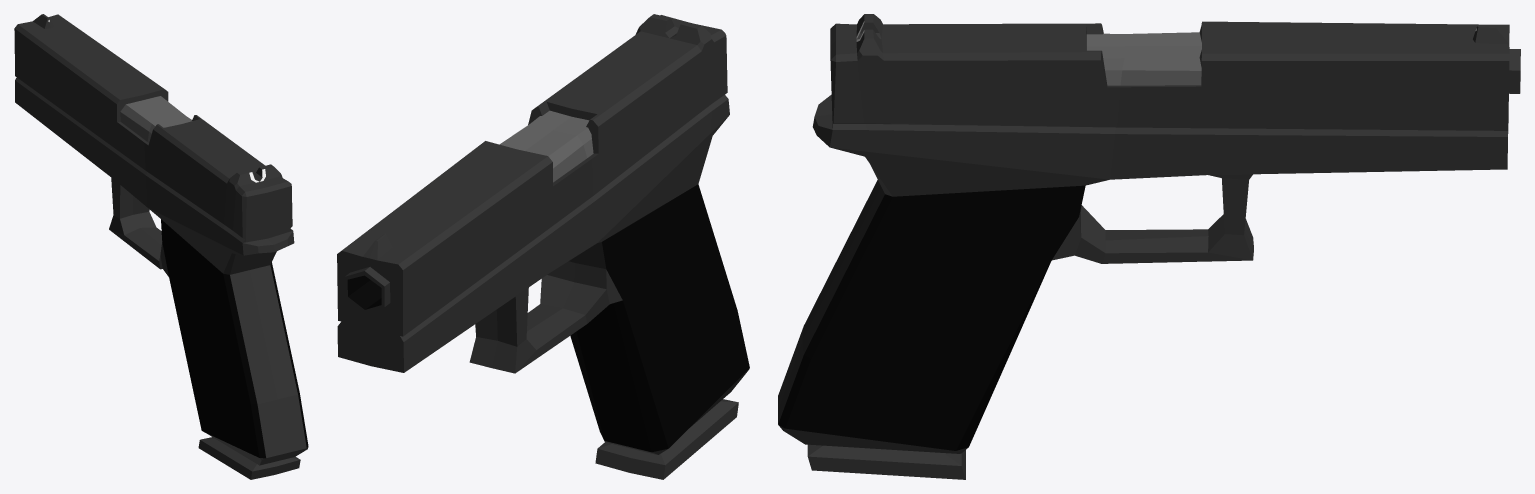
The model's file is Glock.fbx.
The picture shows the model from 3 angles, left to right: view 1: azimuth 30°, elevation 25°; view 2: azimuth 150°, elevation 25°; view 3: azimuth 270°, elevation 25°; orthographic projection. The views are drawn at different scales.
Visible parts, largest first — view 1: Cube; view 2: Cube; view 3: Cube.
Boxes of the visible parts, <box> form: Cube: <box>14,14,308,479</box>; Cube: <box>337,14,749,479</box>; Cube: <box>778,14,1520,479</box>.
Size of the model in its own units: 1.12 by 9.36 by 6.09.
